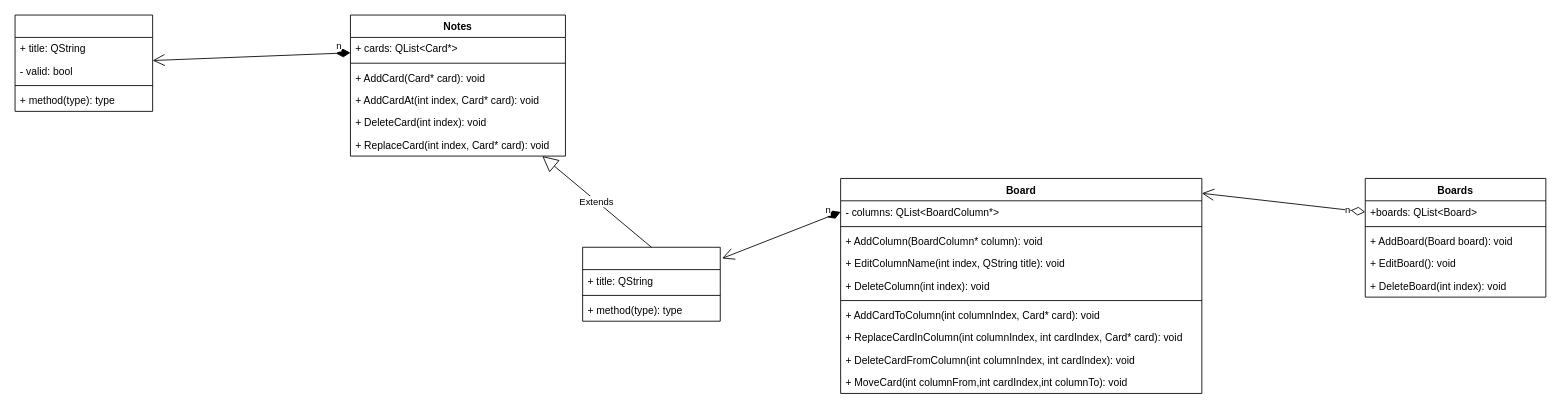
This 1561x411 diagram has some shape labels left out. The box of each missing label's shape, as (x1, y1, x2, y2) in pixels:
BoardColumn: (582, 246, 720, 321)
Card: (14, 14, 153, 111)
